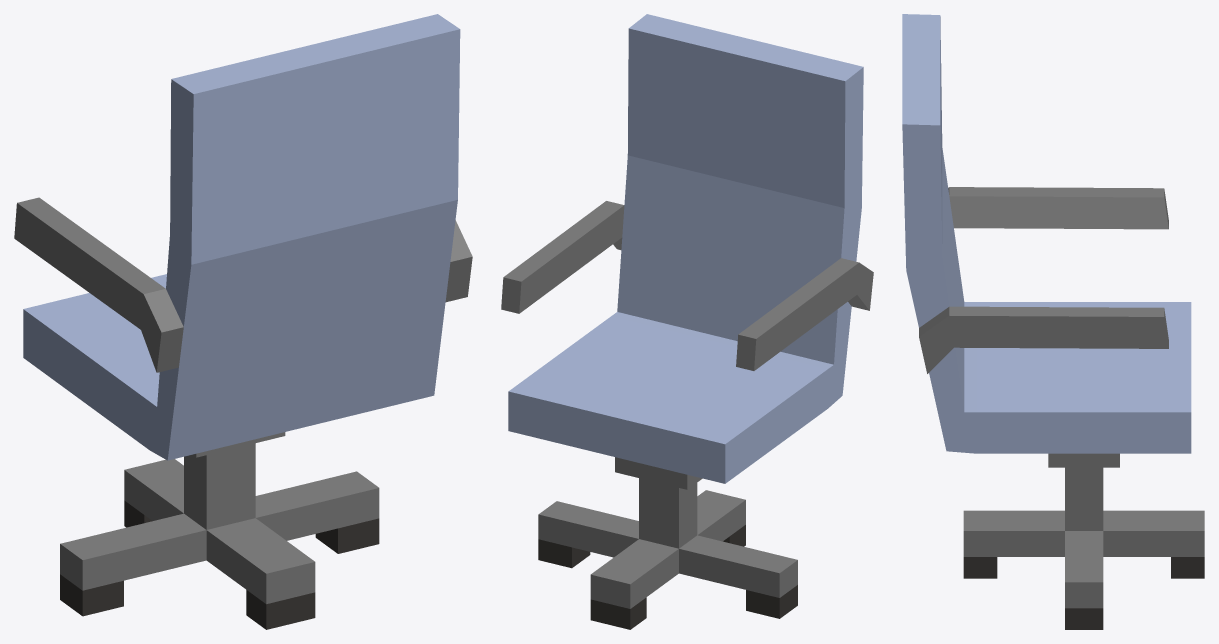
File: blueChair.fbx
3 renders of one model, left to right at view 1: azimuth 30°, elevation 25°; view 2: azimuth 150°, elevation 25°; view 3: azimuth 270°, elevation 25°, orthographic. The views are drawn at different scales.
Visible parts, largest first — view 1: CHAIRBLUE; view 2: CHAIRBLUE; view 3: CHAIRBLUE.
Boxes of the visible parts, <box> form: CHAIRBLUE: <box>14,14,472,629</box>; CHAIRBLUE: <box>501,14,873,629</box>; CHAIRBLUE: <box>902,14,1204,629</box>.
Bounding box in the file's own units: 2.1 × 3.8 × 2.09.
